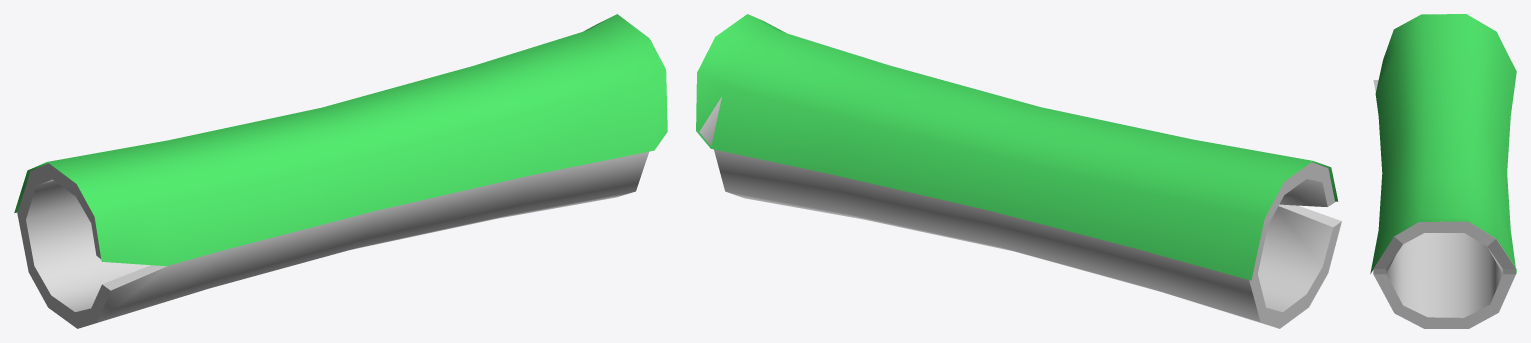
The model's file is TreeTrunk_Oak_Moss.fbx.
The picture shows the model from 3 angles, left to right: view 1: azimuth 30°, elevation 25°; view 2: azimuth 150°, elevation 25°; view 3: azimuth 270°, elevation 25°; orthographic projection. The views are drawn at different scales.
Parts seen in each view (by area): view 1: TreeTrunk_Oak_Moss_LOD0; view 2: TreeTrunk_Oak_Moss_LOD0; view 3: TreeTrunk_Oak_Moss_LOD0.
Part boxes in pixels (<box>): TreeTrunk_Oak_Moss_LOD0: <box>14,14,667,328</box>; TreeTrunk_Oak_Moss_LOD0: <box>696,14,1341,328</box>; TreeTrunk_Oak_Moss_LOD0: <box>1370,14,1516,328</box>.
Size of what is drawn, in the model's own units: 2.54 by 0.6599 by 0.7394.
